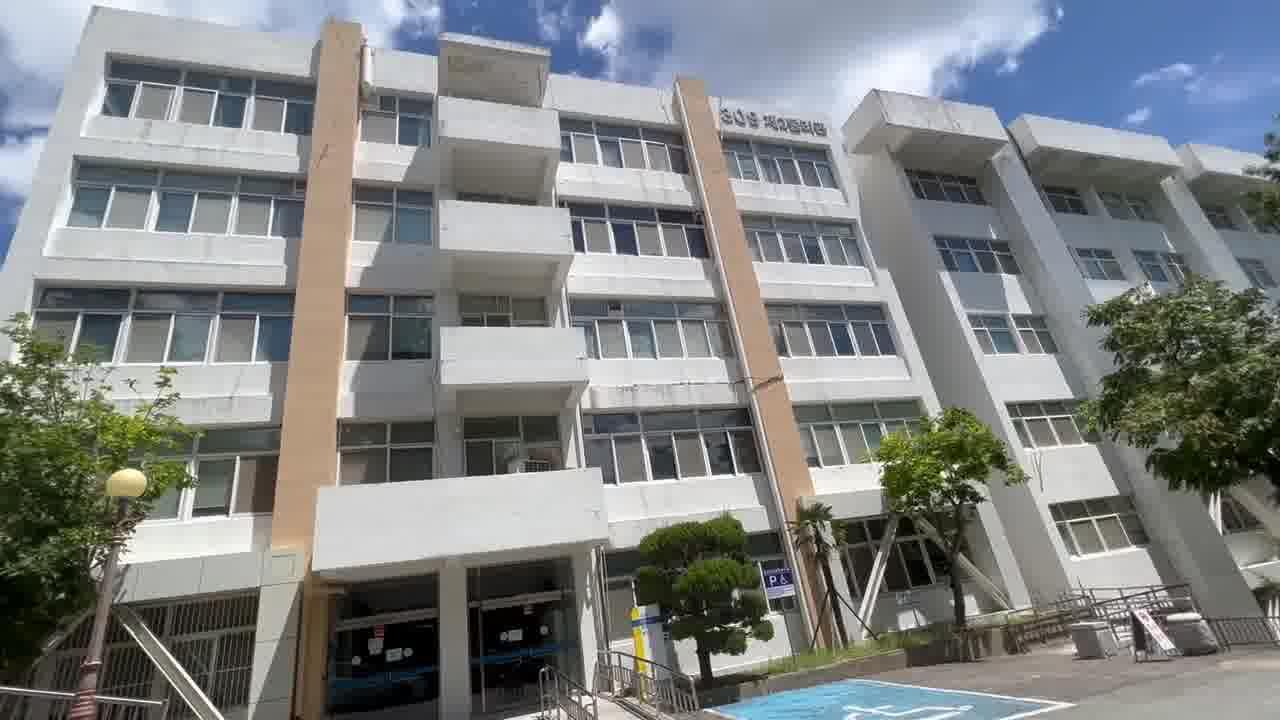building: (86, 13, 1083, 419)
